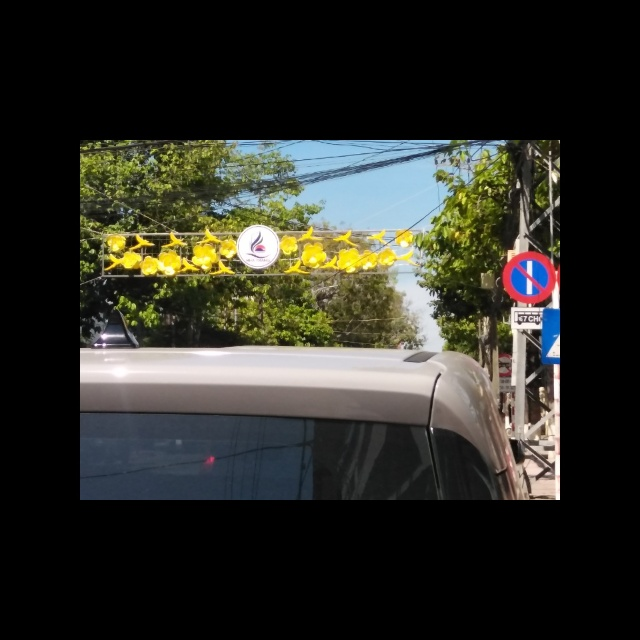Cấm đỗ xe ngày lẻ: (501, 252, 558, 307)
